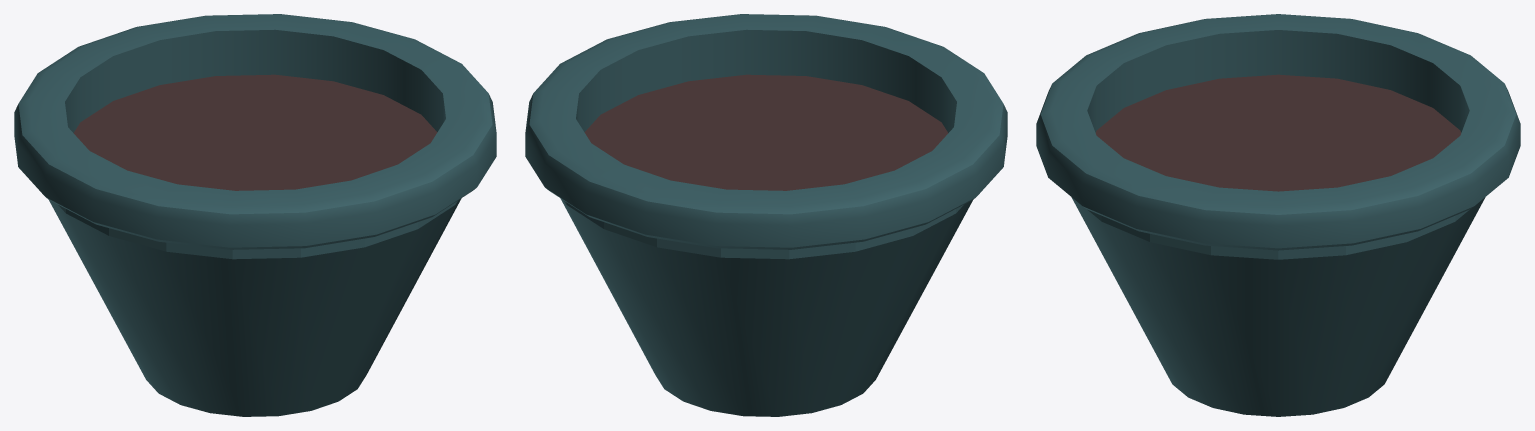
The model's file is Pot.fbx.
3 renders of one model, left to right at view 1: azimuth 30°, elevation 25°; view 2: azimuth 150°, elevation 25°; view 3: azimuth 270°, elevation 25°, orthographic.
Visible parts, largest first — view 1: pCylinder6; view 2: pCylinder6; view 3: pCylinder6.
Part boxes in pixels (x1,y1,x2,y2): pCylinder6: (14,14,496,416); pCylinder6: (525,14,1007,416); pCylinder6: (1036,14,1520,416).
Bounding box in the file's own units: 4.34 × 2.56 × 4.34.
